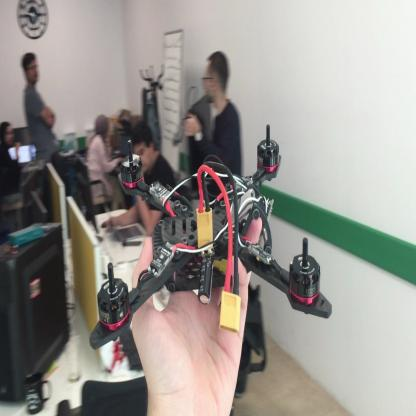drone: (96, 132, 340, 338)
